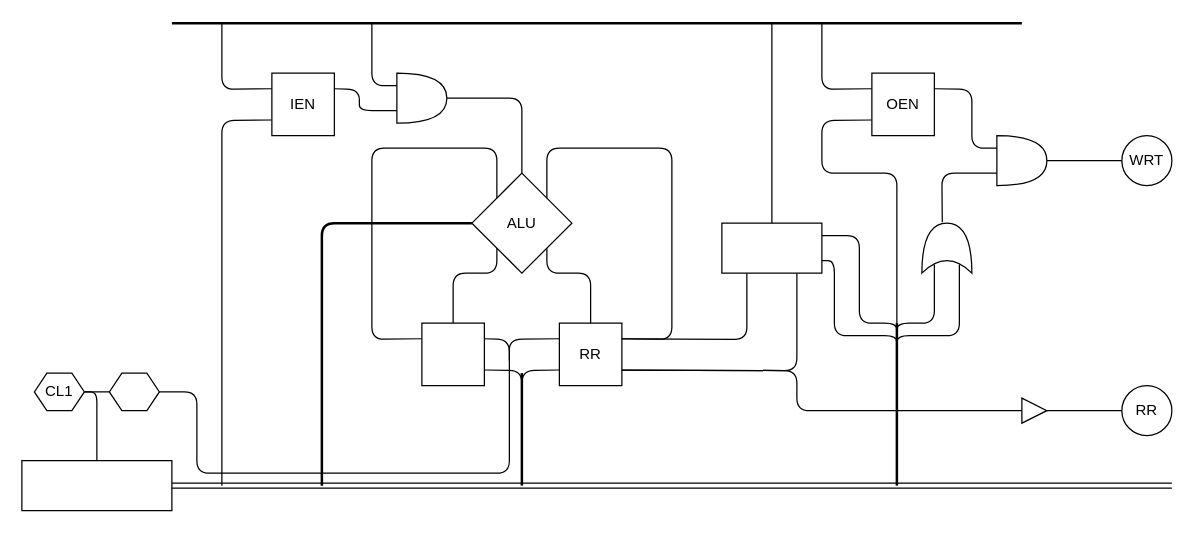
Image size: 1194x533. Some labels were removed from this diagram. The shapes that lost their labels are listed below. From the top down, each one's box as (x1, y1, x2, y2) in pixels, then its label:
(721, 222, 822, 273): MUX
(421, 322, 484, 386): CARRY
(108, 372, 159, 411): CL2
(21, 459, 172, 511): INST.
